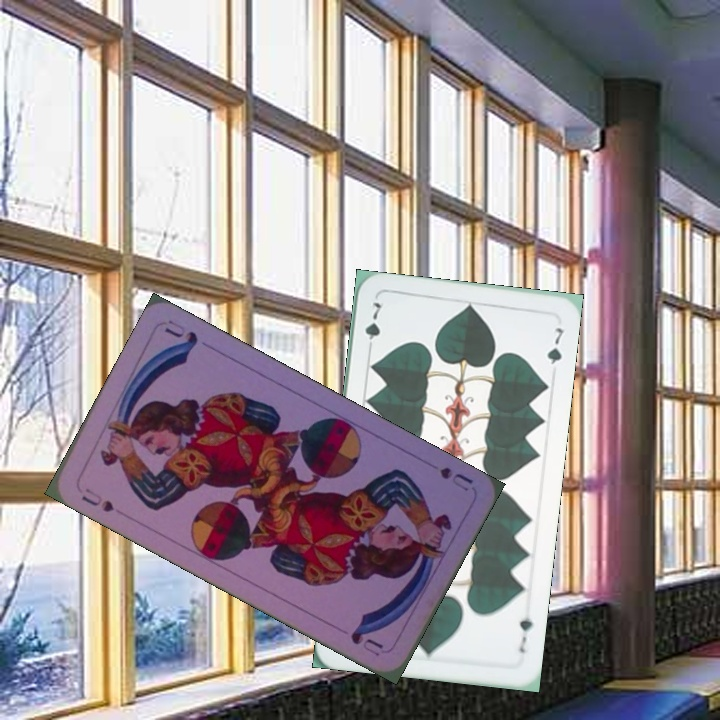G7: (361, 298, 384, 355), (515, 612, 535, 655)
SU: (435, 462, 476, 495), (77, 483, 117, 515)
